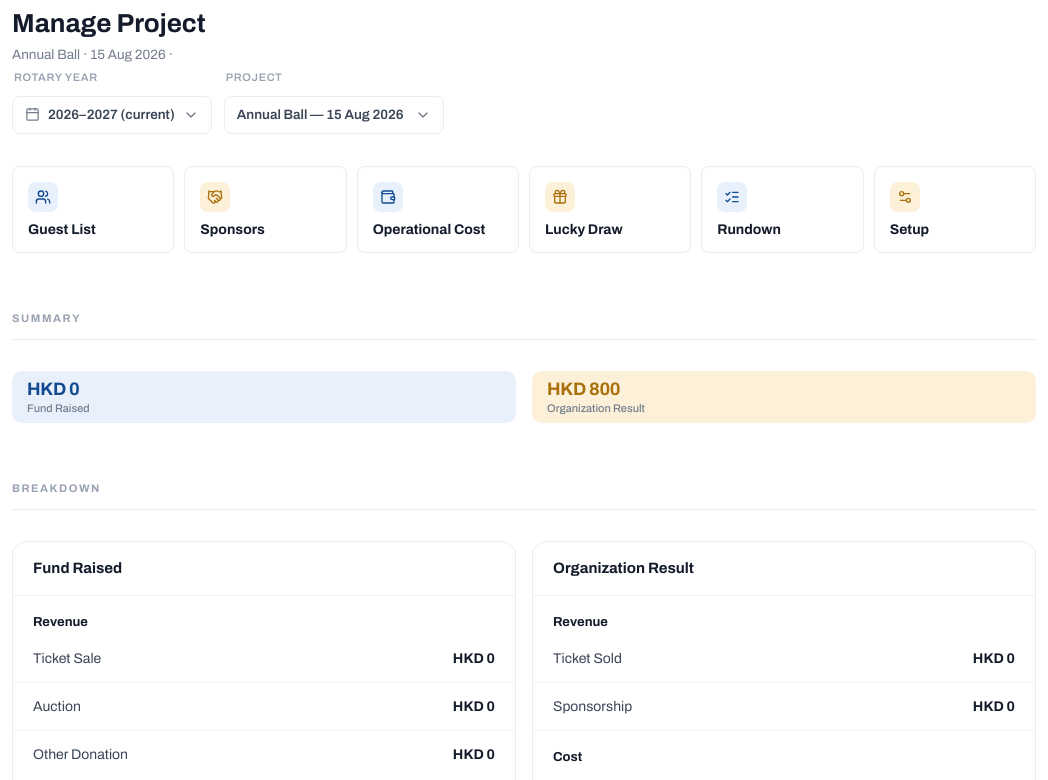
Test: EventManageProject › clicking a bento card link opens the matching panel
Click the button "Guest List". click: coordinates (93, 209)
box: [12,166,174,253]
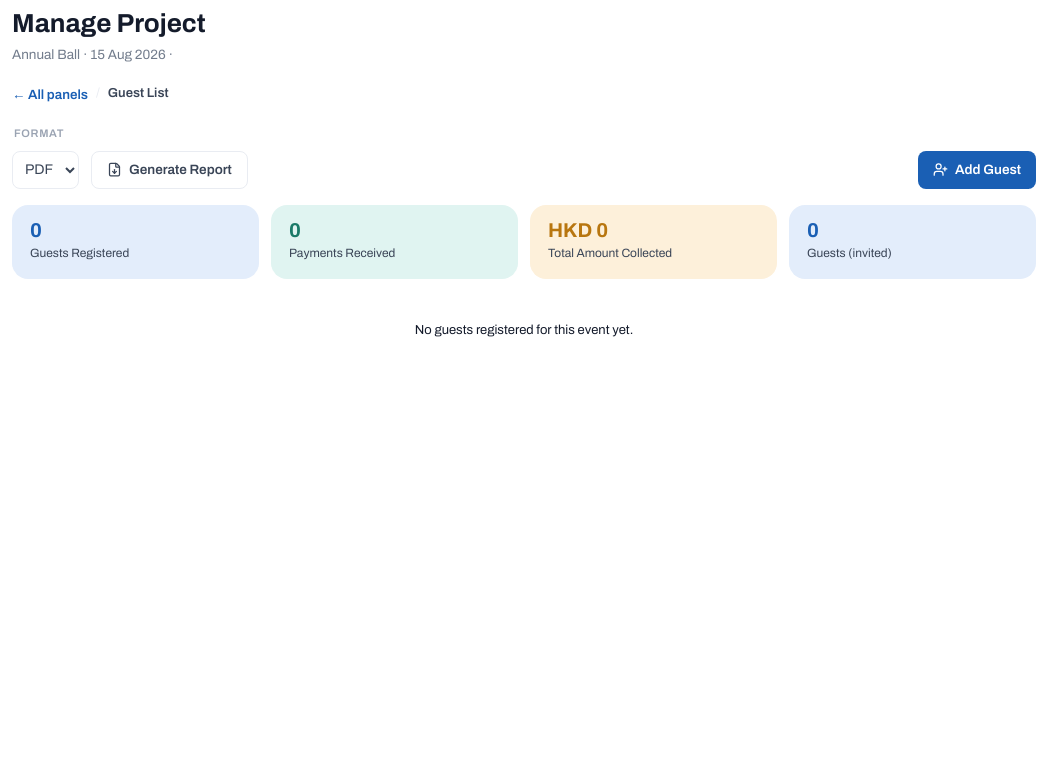
Check: the text "No guests registered for this event yet." is shown, box [415,323,633,337]
